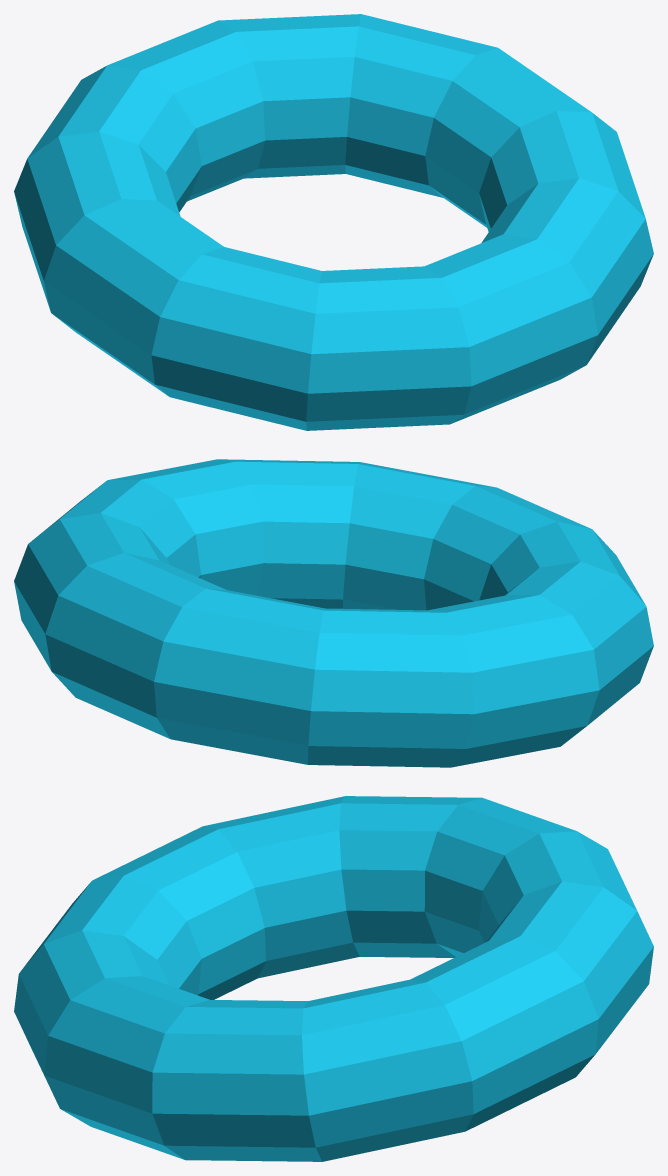
File: circleFloaty.glb
The picture shows the model from 3 angles, top to bottom: view 1: azimuth 30°, elevation 25°; view 2: azimuth 150°, elevation 25°; view 3: azimuth 270°, elevation 25°; orthographic projection.
Visible parts, largest first — view 1: group1724793210; view 2: group1724793210; view 3: group1724793210.
Boxes of the visible parts, x1,y1,x2,y2 form: group1724793210: (14, 14, 653, 430); group1724793210: (14, 459, 653, 767); group1724793210: (14, 796, 653, 1161).
Bounding box in the file's own units: 0.2692 × 0.0964 × 0.2663.
